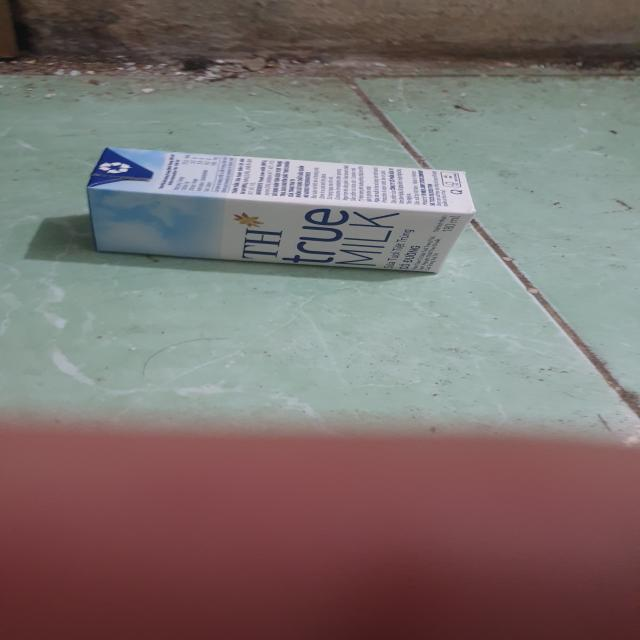TH: (84, 148, 475, 276)
